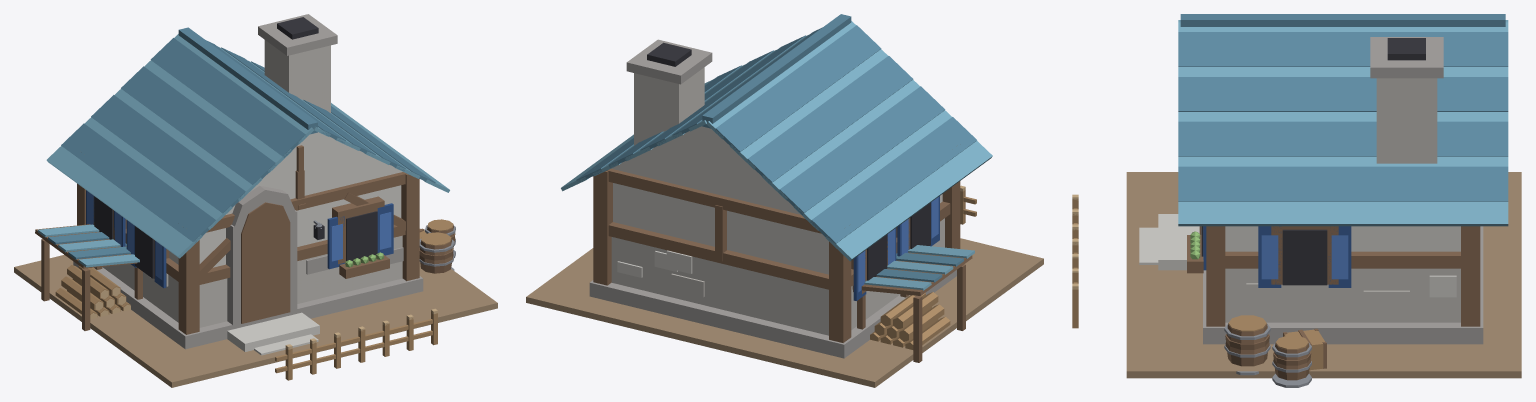
Rendered from Building_Hut.glb.
3 views of the same model, side by side, from view 1: azimuth 30°, elevation 25°; view 2: azimuth 150°, elevation 25°; view 3: azimuth 270°, elevation 25° (orthographic). The views are drawn at different scales.
Visible parts, largest first — view 1: Hut; view 2: Hut; view 3: Hut.
Boxes of the visible parts, left/top/right/bottom form: Hut: left=14, top=14, right=497, bottom=387; Hut: left=526, top=14, right=1043, bottom=387; Hut: left=1072, top=14, right=1521, bottom=387.
Bounding box in the file's own units: 8.14 × 4.83 × 7.05.
